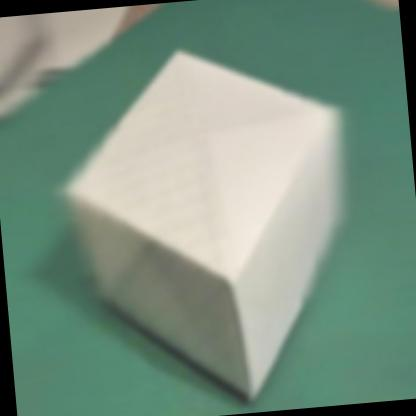box: (52, 42, 364, 416)
